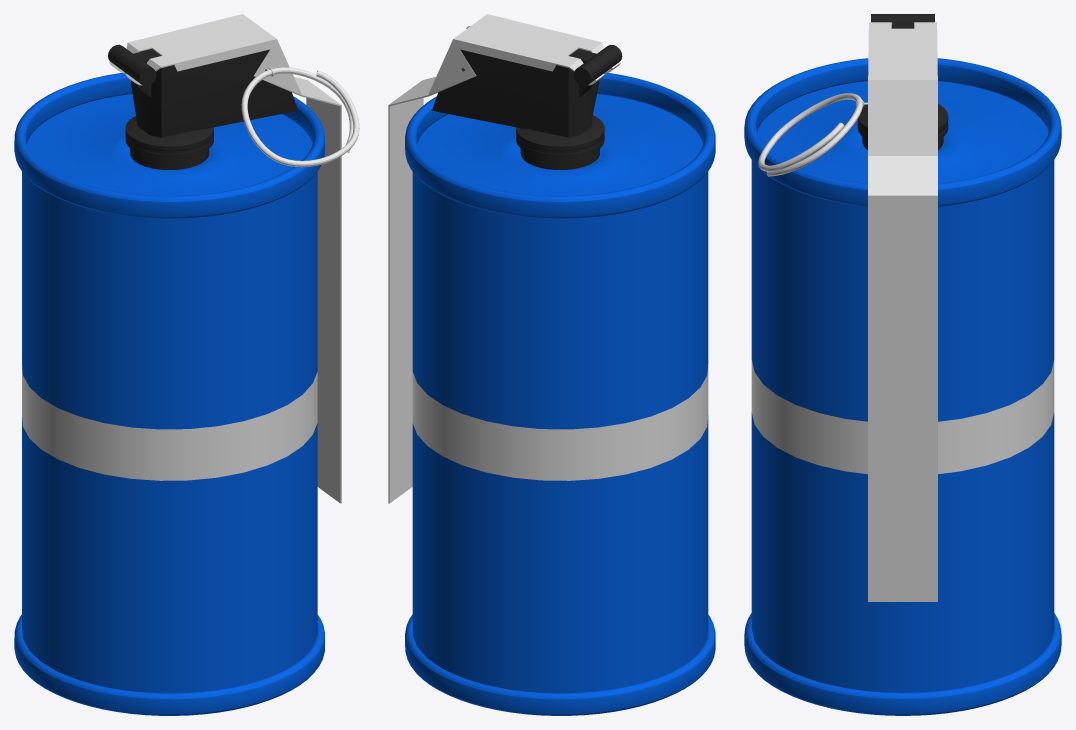
File: smoke.glb
3 views of the same model, side by side, from view 1: azimuth 30°, elevation 25°; view 2: azimuth 150°, elevation 25°; view 3: azimuth 270°, elevation 25° (orthographic). The views are drawn at different scales.
Parts seen in each view (by area): view 1: Bomb.001; view 2: Bomb.001; view 3: Bomb.001.
Part boxes in pixels (x1=…): Bomb.001: x1=14, y1=14, x2=359, y2=715; Bomb.001: x1=388, y1=14, x2=715, y2=715; Bomb.001: x1=744, y1=14, x2=1061, y2=715.
Size of the model in its own units: 3.29 by 6.56 by 3.05.
